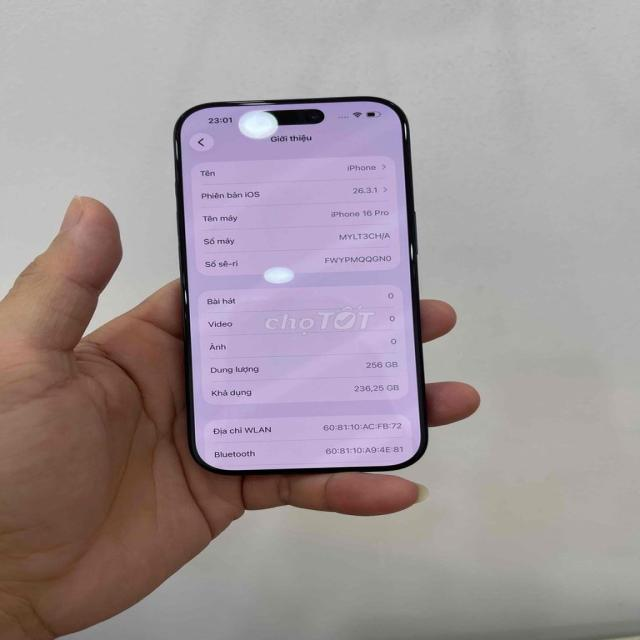gen_16: (175, 97, 426, 476)
